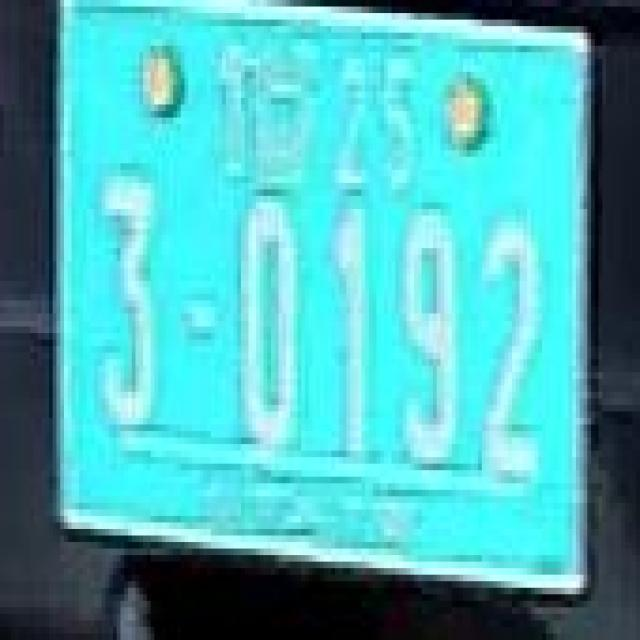State: (218, 40, 322, 192)
